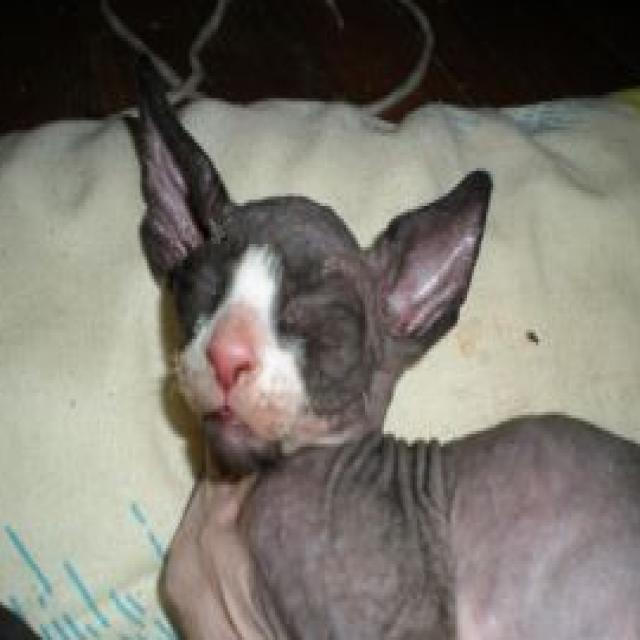Sphynx: (130, 57, 640, 640)
